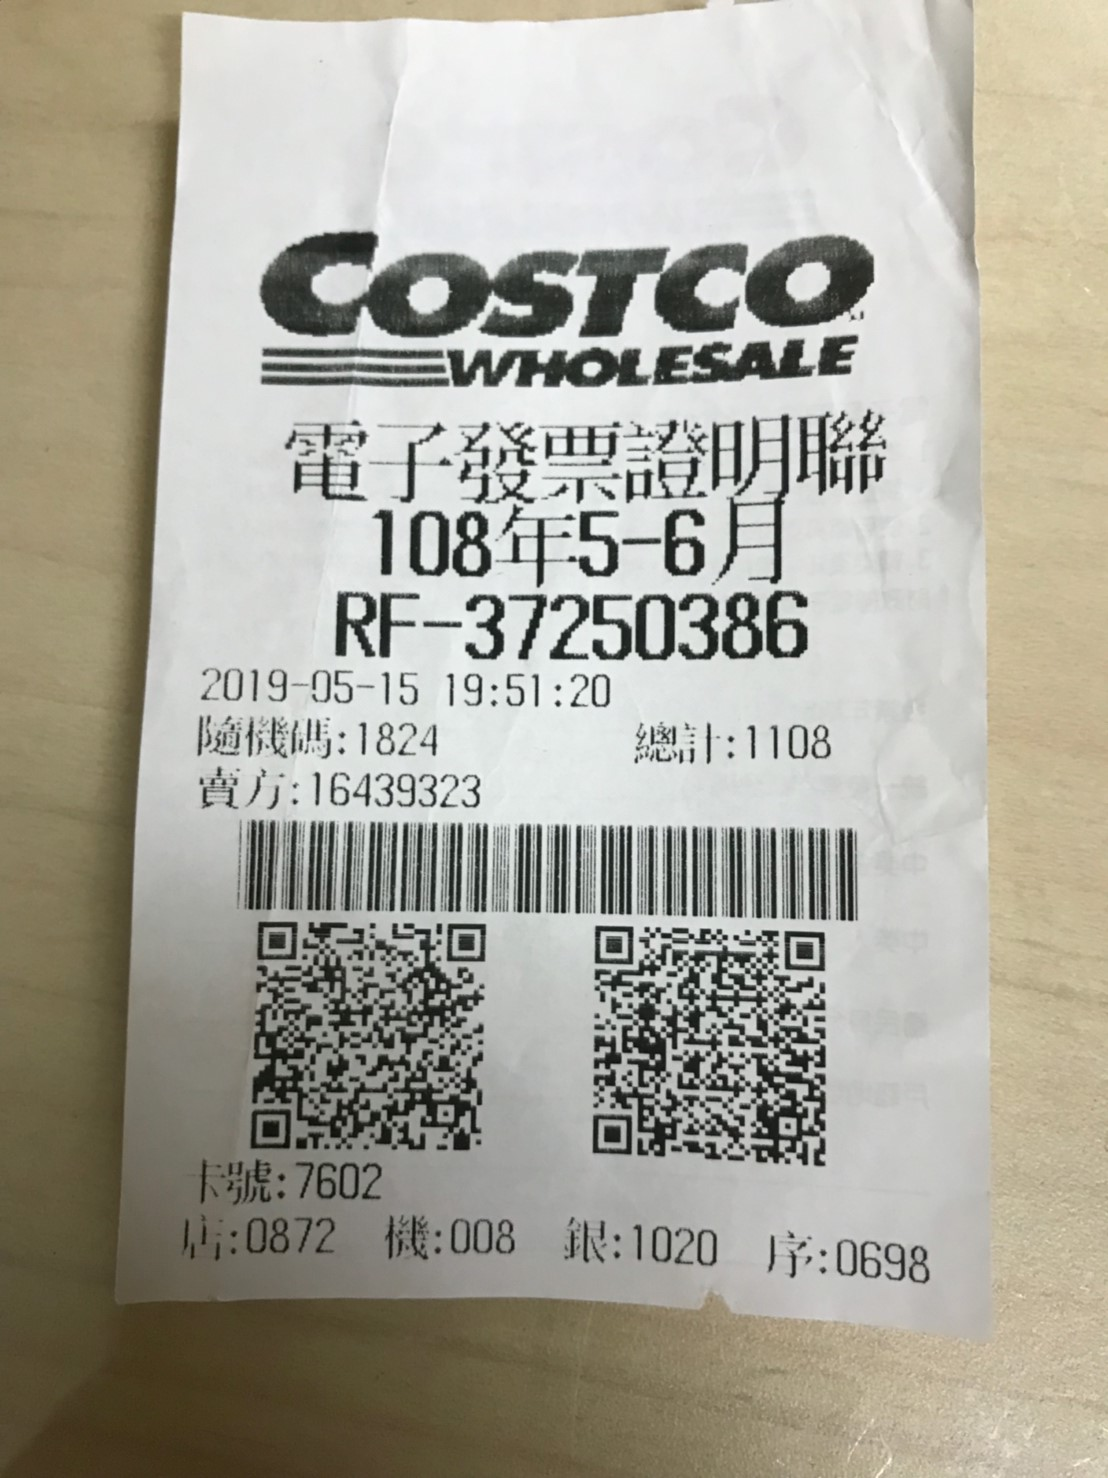Date_New: (370, 498, 783, 585)
Number_New: (463, 585, 812, 661)
